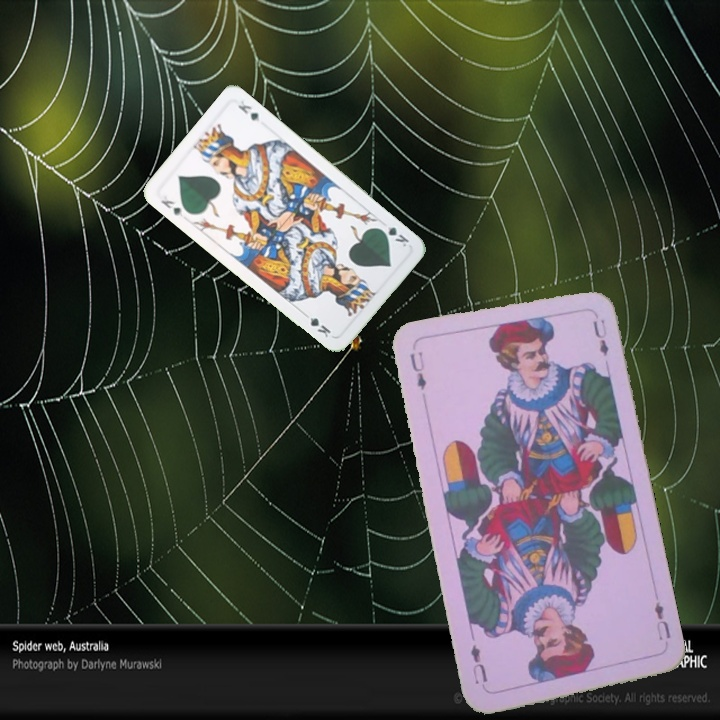EU: (650, 598, 674, 643), (406, 348, 429, 393)
GK: (375, 222, 412, 249), (157, 196, 185, 219)
